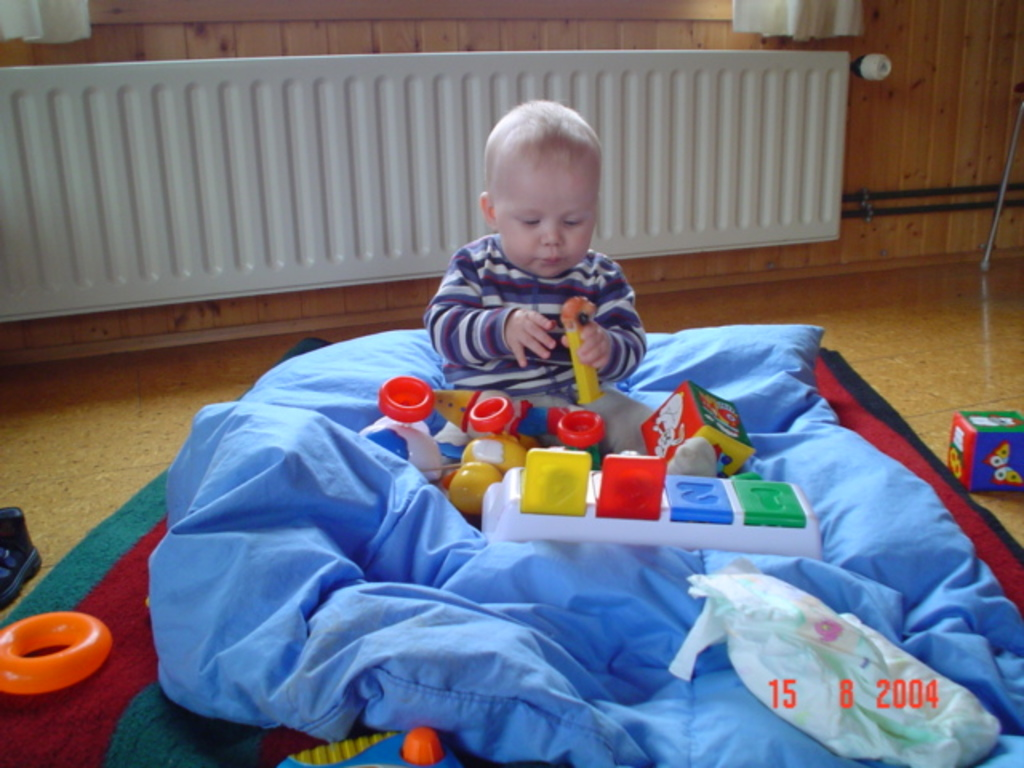Human_hand: (506, 306, 555, 368), (560, 325, 613, 373)
